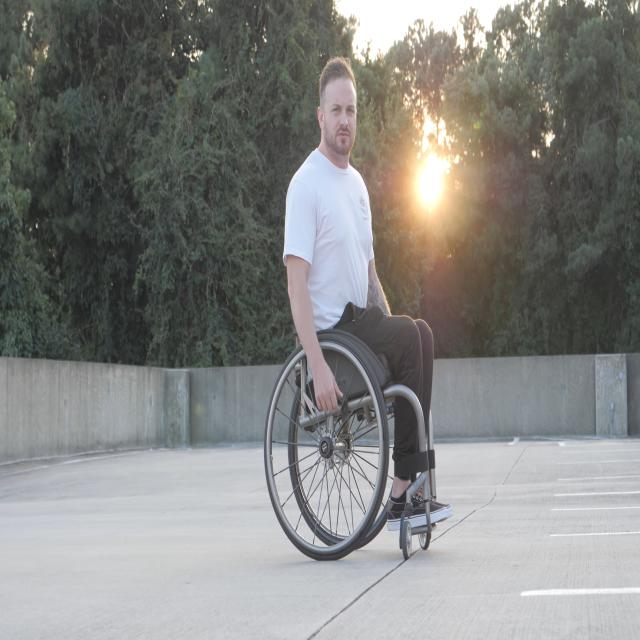wheelchairs: (264, 273, 438, 562)
